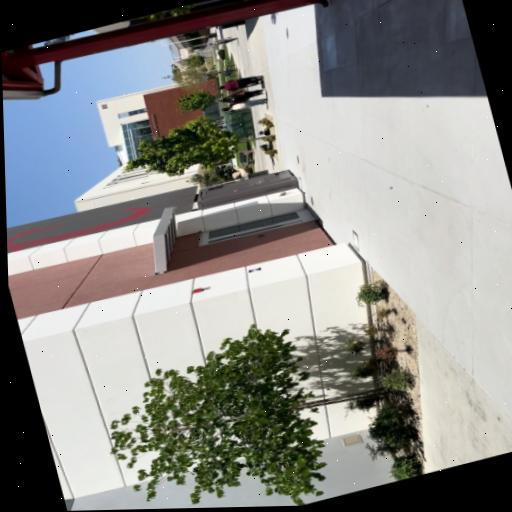target6: (249, 266, 262, 273)
